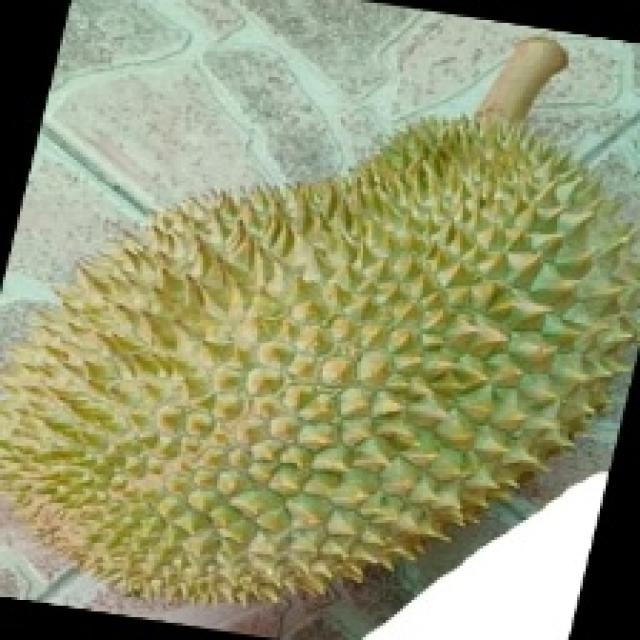d2: (3, 64, 629, 589)
